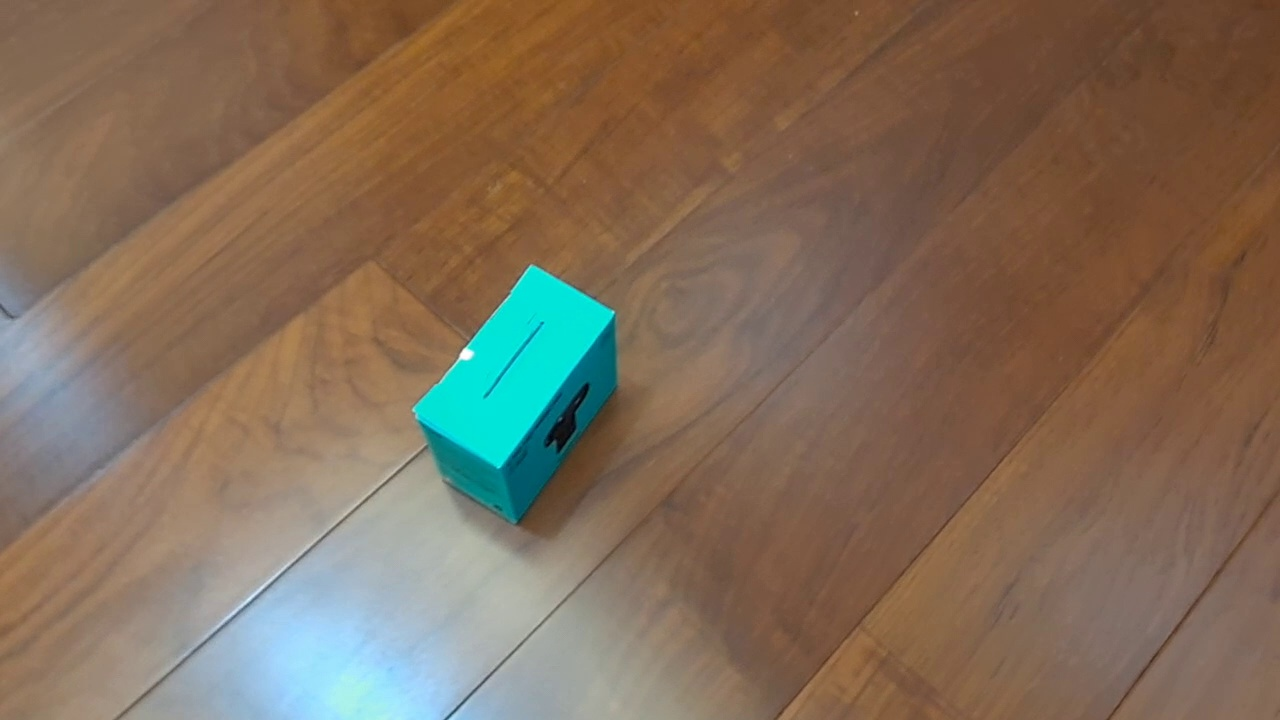webcam: (410, 263, 621, 526)
